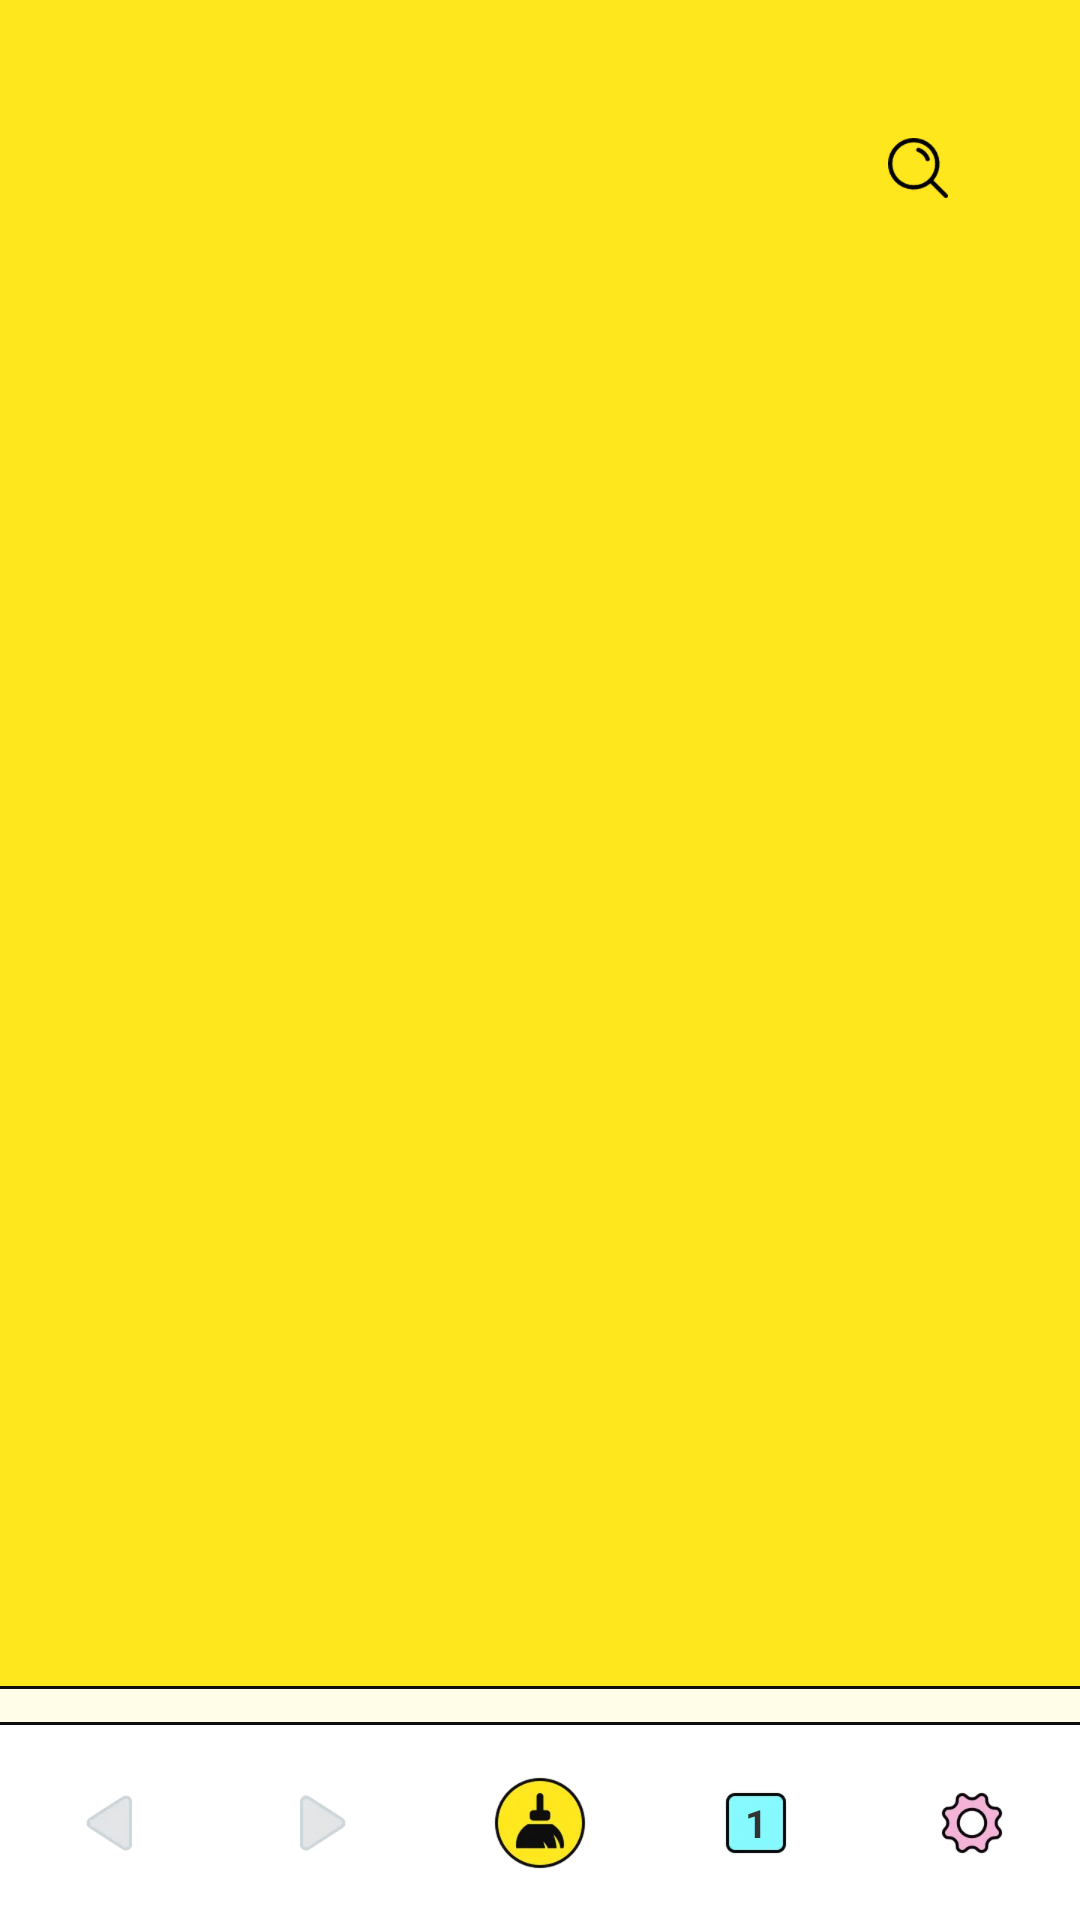

Locate icon controls on the screen. Image size 1080 × 1920, boxes as (x1, y1, x2, y2).
search: (888, 138, 948, 198)
